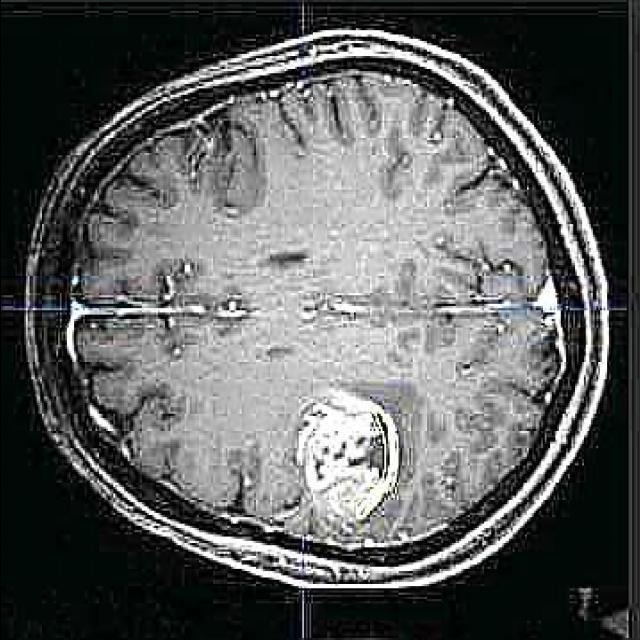tumor: (264, 392, 403, 534)
